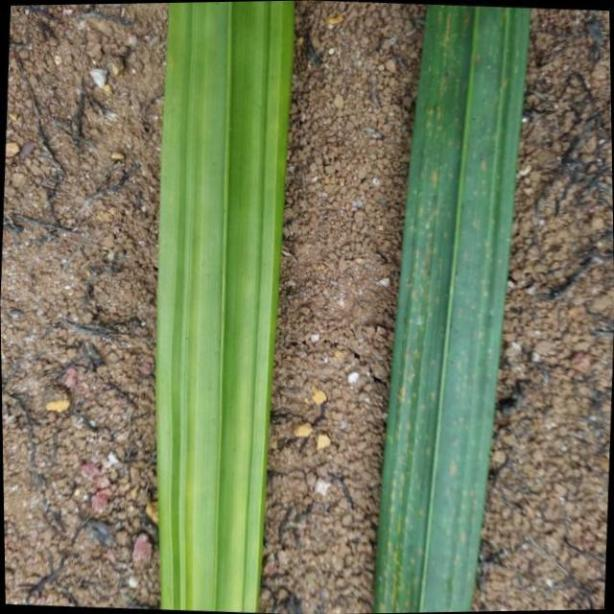nitrogen: (366, 0, 533, 614), (158, 0, 294, 614)
